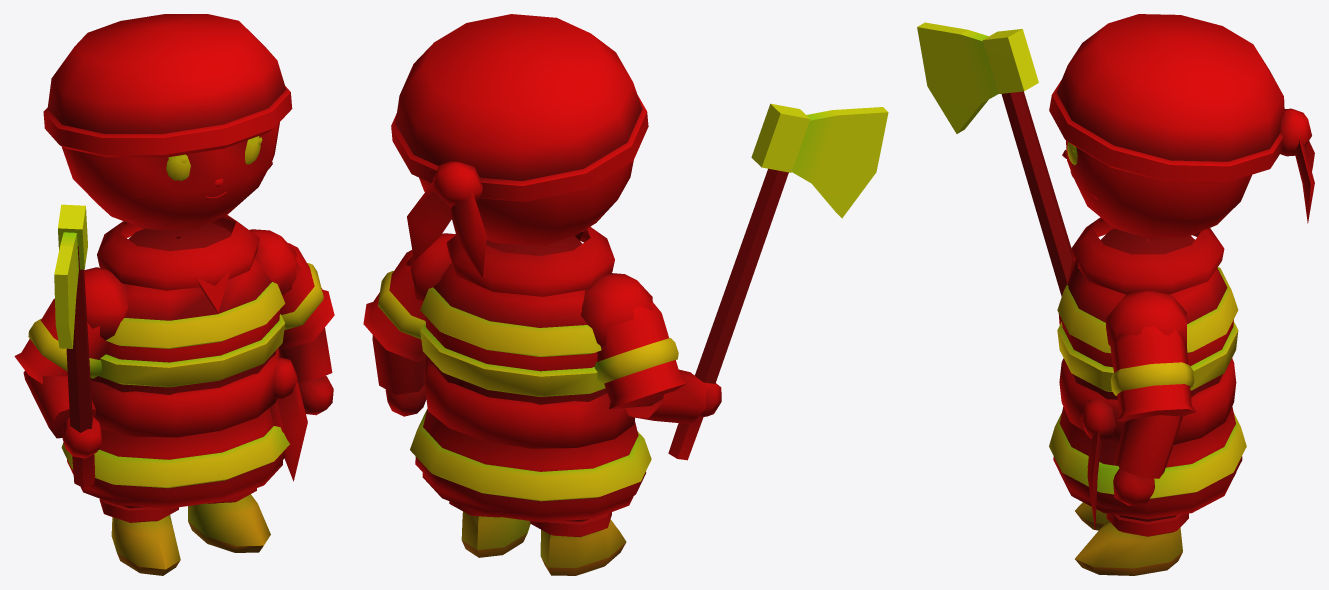
Rendered from PirateDeckhand_wood.glb.
The picture shows the model from 3 angles, left to right: view 1: azimuth 30°, elevation 25°; view 2: azimuth 150°, elevation 25°; view 3: azimuth 270°, elevation 25°; orthographic projection. The views are drawn at different scales.
Parts seen in each view (by area): view 1: PirateDeckhand_wood; view 2: PirateDeckhand_wood; view 3: PirateDeckhand_wood.
Boxes of the visible parts, box(x1,y1,x2,y2) form: PirateDeckhand_wood: box(14, 14, 334, 575); PirateDeckhand_wood: box(363, 14, 888, 575); PirateDeckhand_wood: box(917, 14, 1314, 575).
Size of the model in its own units: 0.6585 by 0.8097 by 0.5796.
